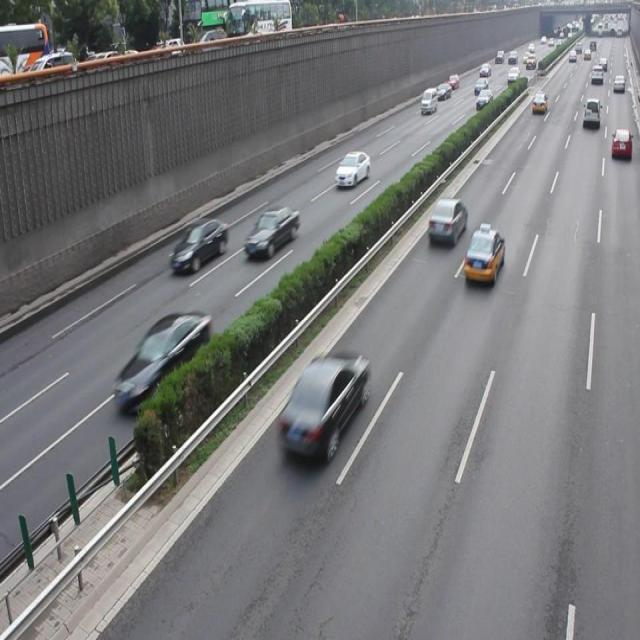car: (278, 346, 372, 462), (113, 306, 212, 412), (171, 215, 228, 276), (243, 204, 299, 258), (463, 226, 504, 286), (427, 198, 467, 244), (333, 150, 370, 188)
